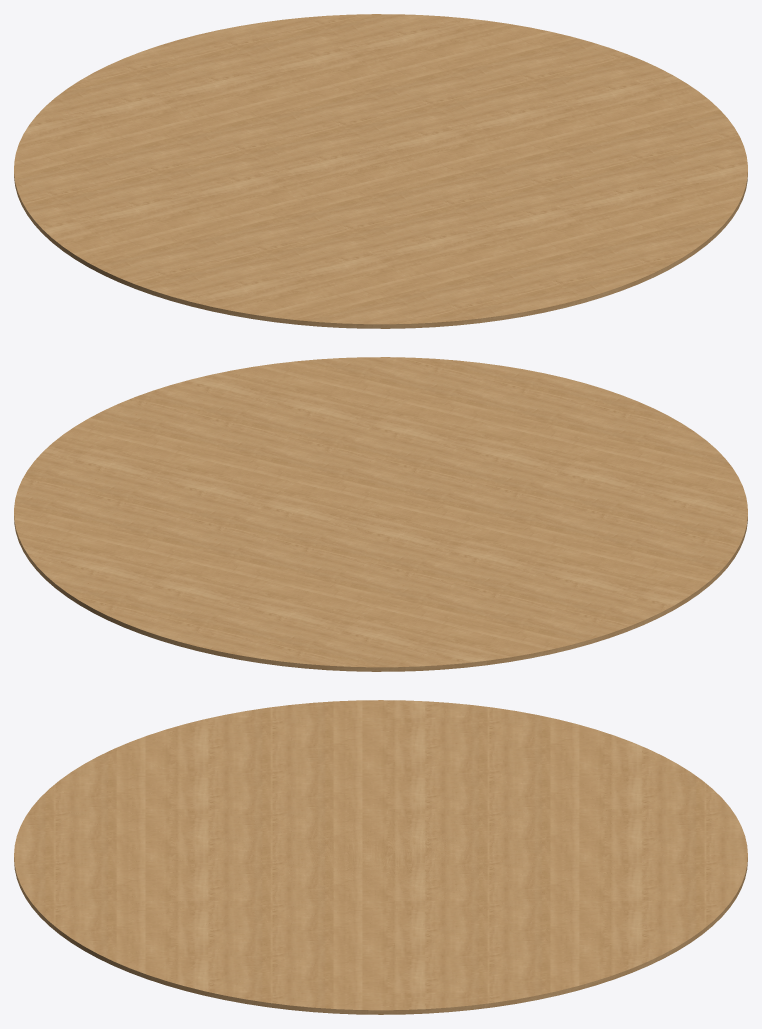
File: round_mango_wood_natural.glb
3 renders of one model, top to bottom at view 1: azimuth 30°, elevation 25°; view 2: azimuth 150°, elevation 25°; view 3: azimuth 270°, elevation 25°, orthographic.
Parts seen in each view (by area): view 1: Cylinder001; view 2: Cylinder001; view 3: Cylinder001.
Boxes of the visible parts, box(x1,y1,x2,y2) form: Cylinder001: box(14, 14, 747, 328); Cylinder001: box(14, 357, 747, 671); Cylinder001: box(14, 700, 747, 1014).
Bounding box in the file's own units: 2.2 × 0.015 × 2.2.
1 material, 1 textured.
